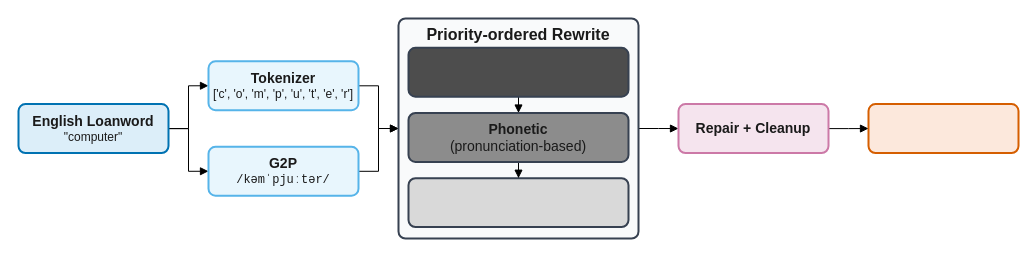
The diagram is 1036 pixels wide and 256 high, and some of its shapes have lost their labels. Here are the shapes that lost their labels. From the top down, the box of each, then its label:
(407, 46, 629, 97): Context-sensitive (silent letters, digraphs)
(867, 103, 1019, 154): Filipino Nativized "kompyuter"
(407, 177, 629, 228): Context-free (one-to-one letter mappings)
